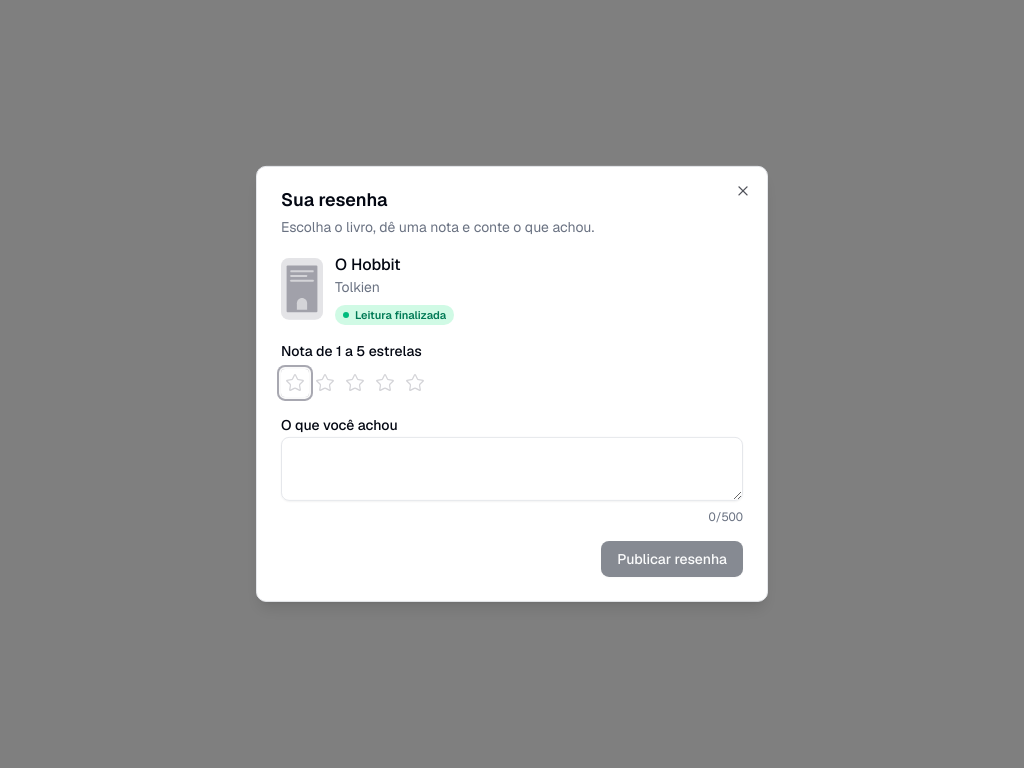
Test: ReviewComposerDialog › mostra o contador e publica quando há estrelas e texto
Expected: the text "Leitura finalizada" is shown, [355,307,446,323]
Expected: the text "0/500" is shown, [708,509,743,525]
Click the button named "5 estrelas (ótima)": click(415, 383) [401,369,429,397]
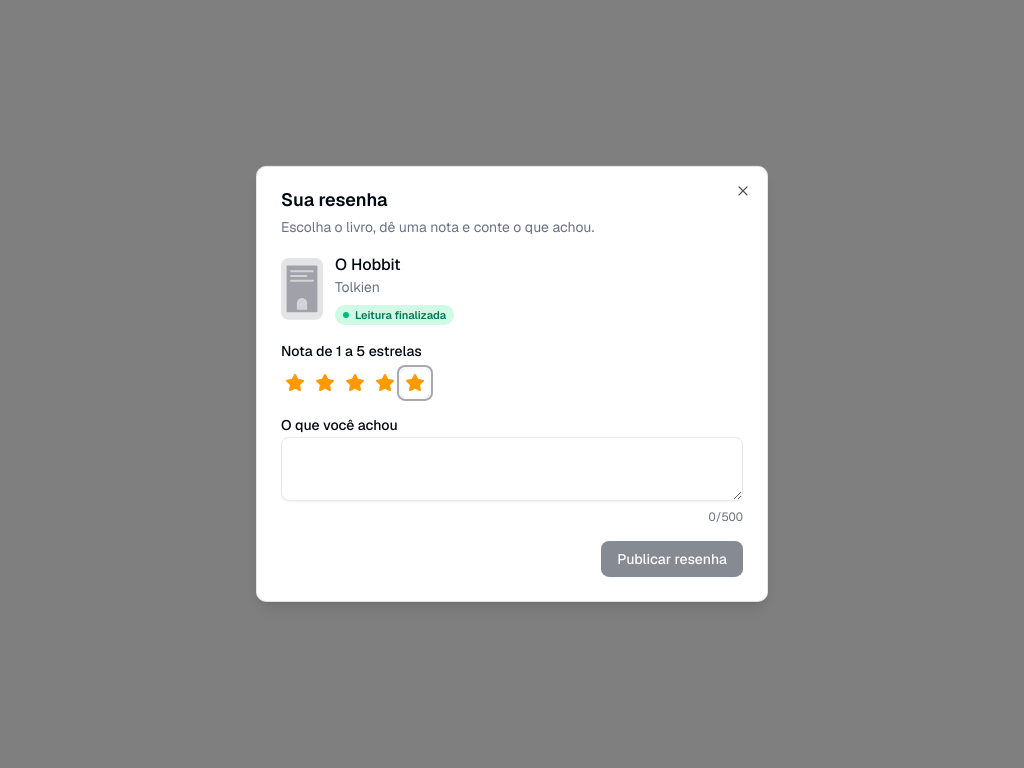
In the text box labelled "O que você achou": (512, 469) [281,437,743,501], type "Oi"
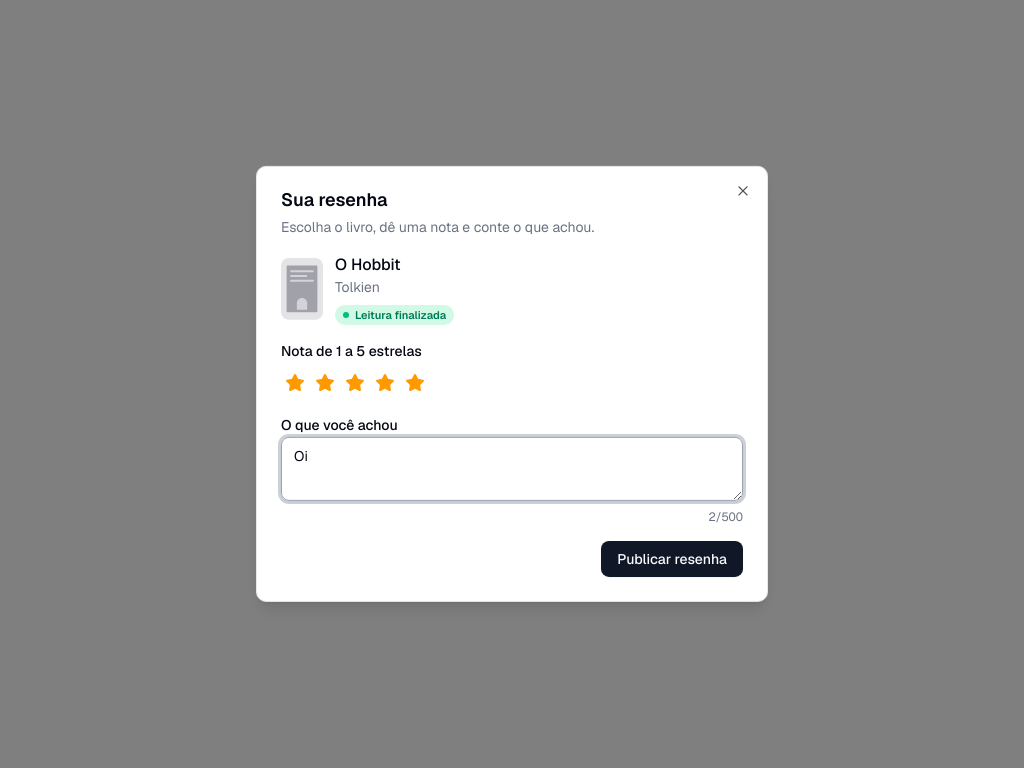
Expected: the text "0/500" reads "2/500", [708,509,743,525]
Expected: the button "Publicar resenha" is enabled, [601,541,743,577]
